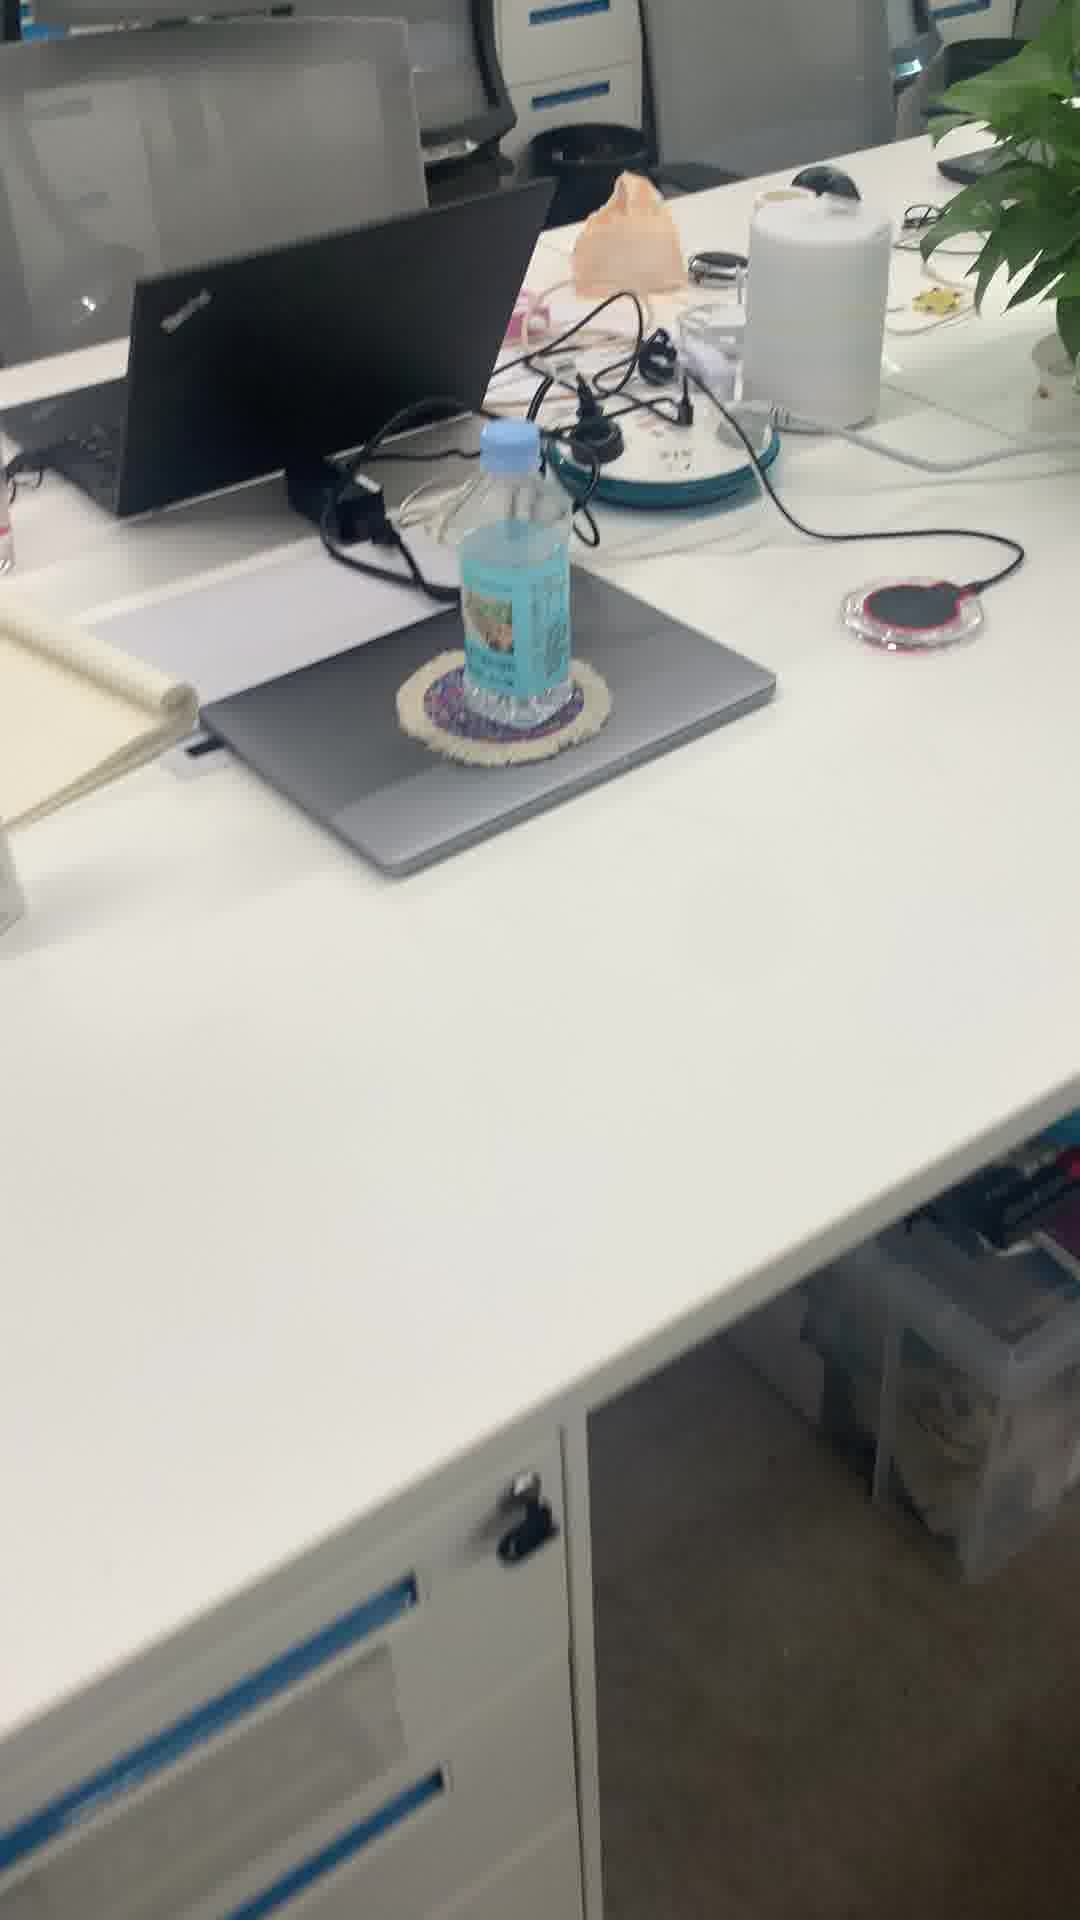水瓶: (442, 417, 587, 729)
